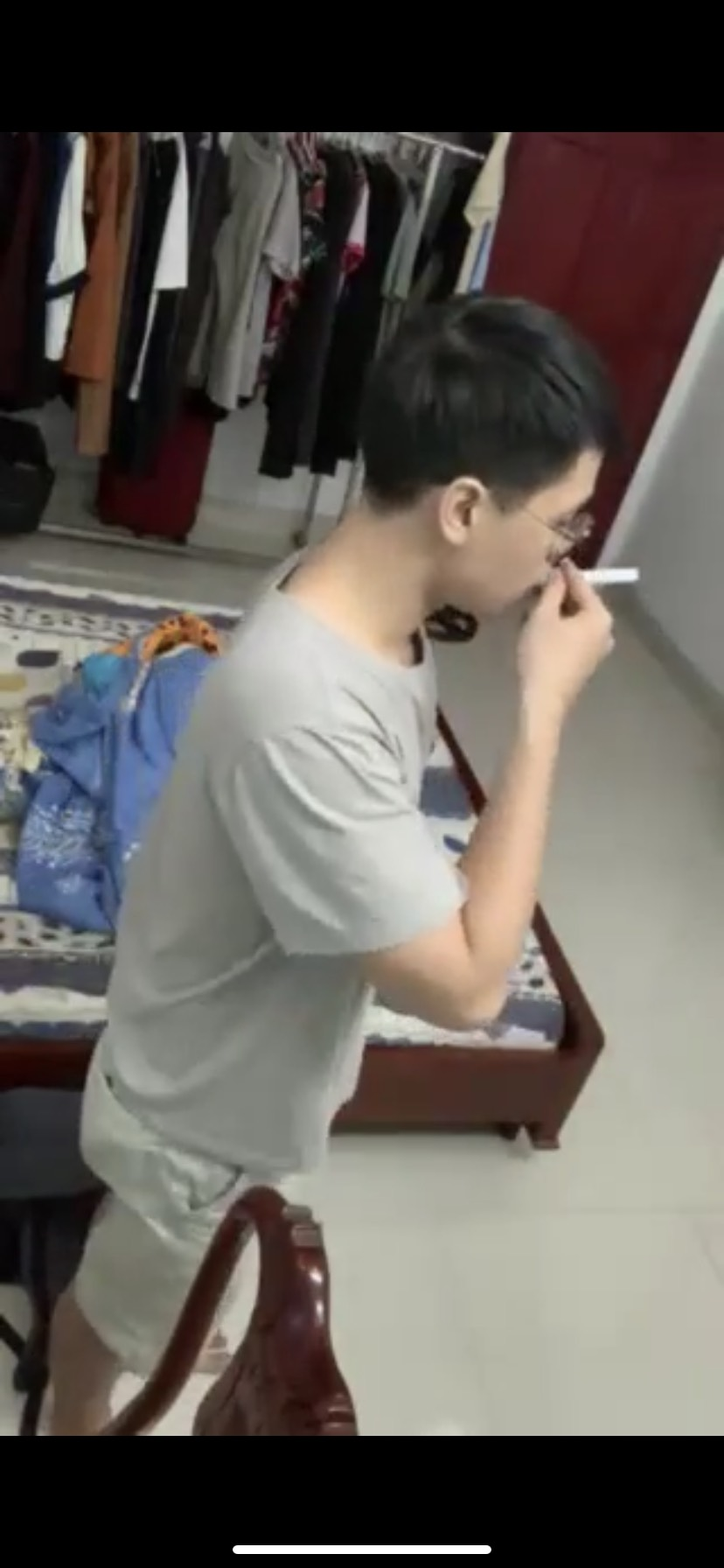cigarette: (561, 546, 657, 589)
person: (120, 275, 648, 1264)
